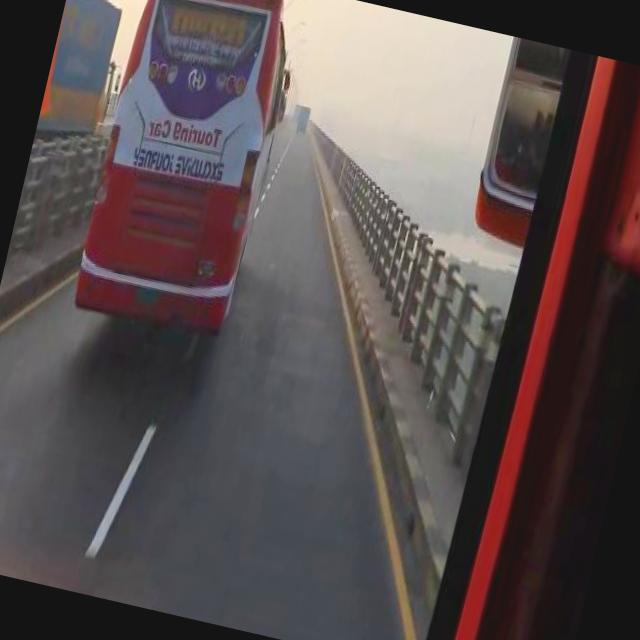bus: (70, 0, 315, 337)
truck: (37, 0, 138, 143)
